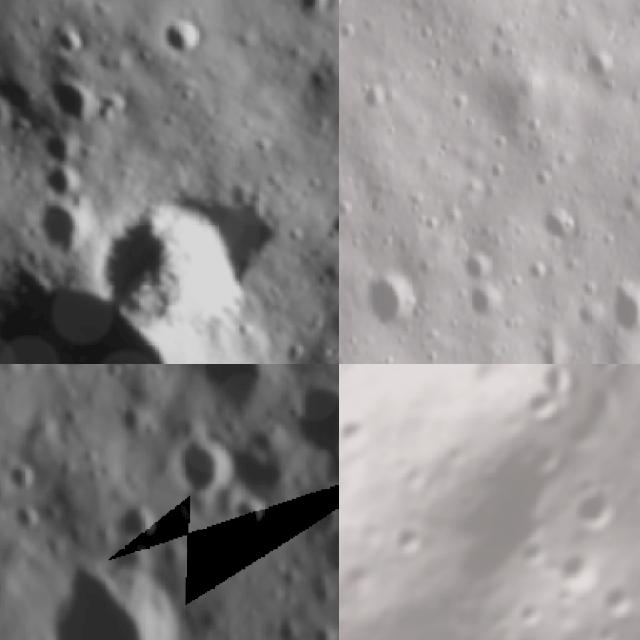crater: (60, 146, 278, 364), (339, 514, 620, 640), (0, 224, 221, 364), (4, 522, 229, 640), (138, 405, 255, 526), (171, 364, 302, 437), (261, 364, 339, 479), (32, 53, 121, 144), (15, 182, 103, 268), (143, 0, 221, 76), (215, 475, 290, 549), (100, 478, 168, 555), (561, 470, 632, 539), (546, 536, 610, 601), (31, 147, 94, 210), (511, 424, 573, 486), (364, 276, 426, 334), (503, 376, 562, 434), (339, 402, 381, 463), (584, 43, 626, 94), (595, 577, 640, 622), (310, 191, 339, 259), (547, 198, 584, 250), (277, 0, 339, 30), (612, 273, 640, 339), (456, 249, 499, 282), (464, 286, 506, 314), (361, 79, 395, 112), (532, 260, 555, 294), (635, 530, 640, 587)
